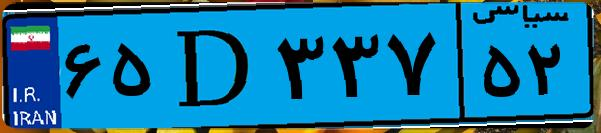2: (525, 38, 570, 115)
3: (270, 28, 330, 110), (330, 28, 385, 110)
5: (475, 38, 525, 113), (110, 28, 158, 98)
6: (57, 26, 110, 100)
7: (385, 28, 445, 110)
D: (158, 12, 270, 120)
